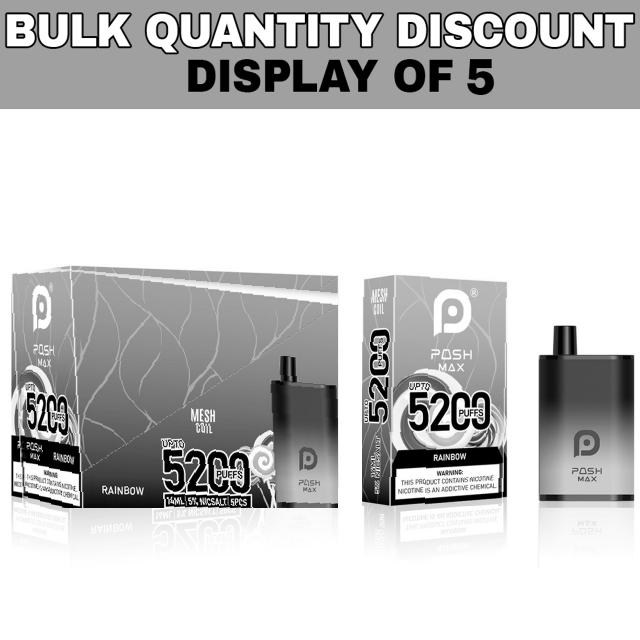Vapes: (10, 264, 338, 508), (362, 274, 508, 506)
